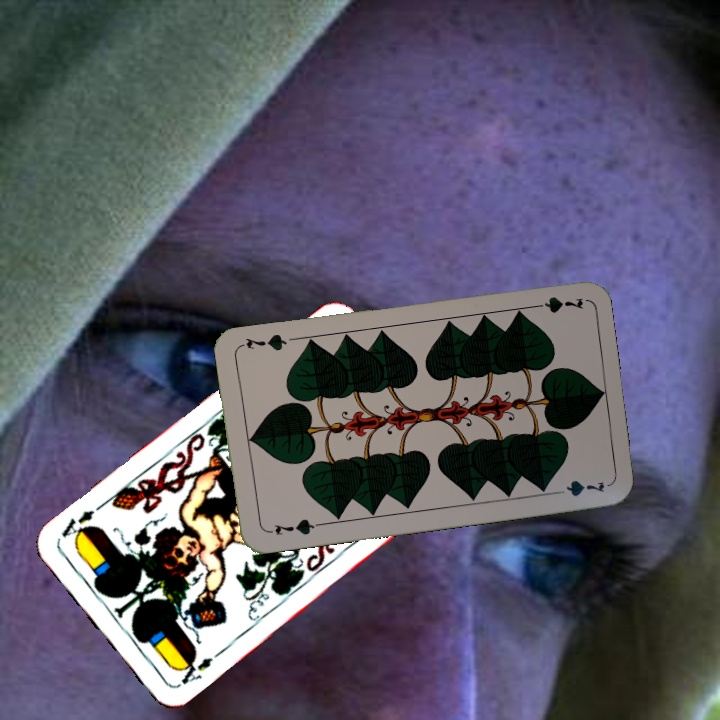EA: (172, 650, 216, 690)
G7: (525, 292, 585, 316), (263, 514, 322, 538)
